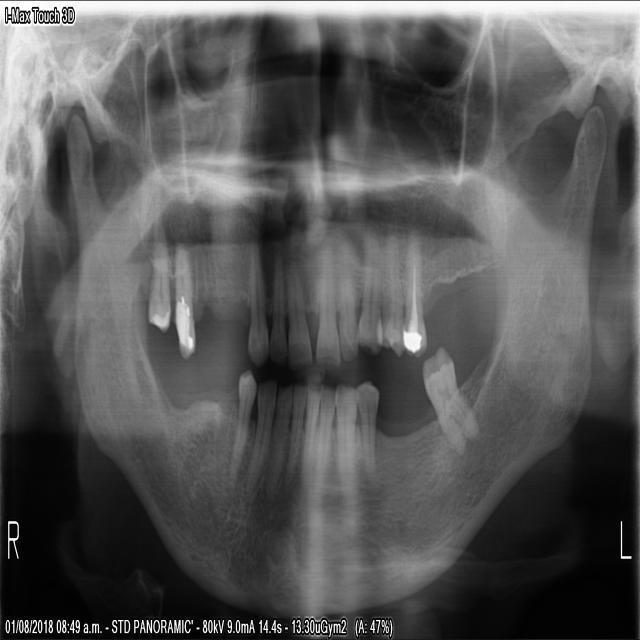LCD: (334, 383, 358, 483)
LCU: (355, 228, 382, 355)
LID: (311, 378, 336, 483), (299, 381, 320, 477)
LIU: (310, 252, 340, 368), (335, 259, 360, 365)
LMD: (420, 341, 480, 456)
LPMD: (354, 375, 380, 477)
LPMU: (401, 233, 427, 360), (376, 232, 403, 353)
RCD: (240, 375, 279, 501)
RCU: (243, 246, 268, 363)
RID: (264, 387, 291, 501), (284, 378, 307, 480)
RIU: (283, 262, 313, 370), (267, 252, 286, 363)
RMU: (172, 245, 195, 360), (145, 243, 170, 335)
RPMD: (225, 371, 257, 486)
